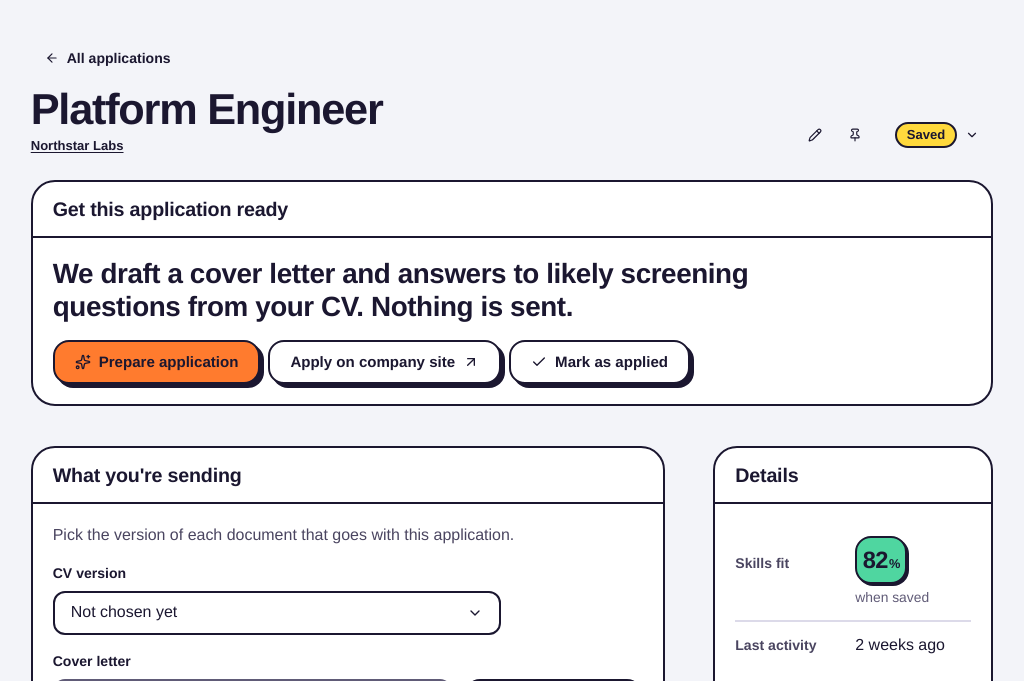
Scenario: ApplicationPage › keeps the name field open and says so when the rename fails
Click the button named "Rename application": (815, 135) [797, 117, 833, 153]
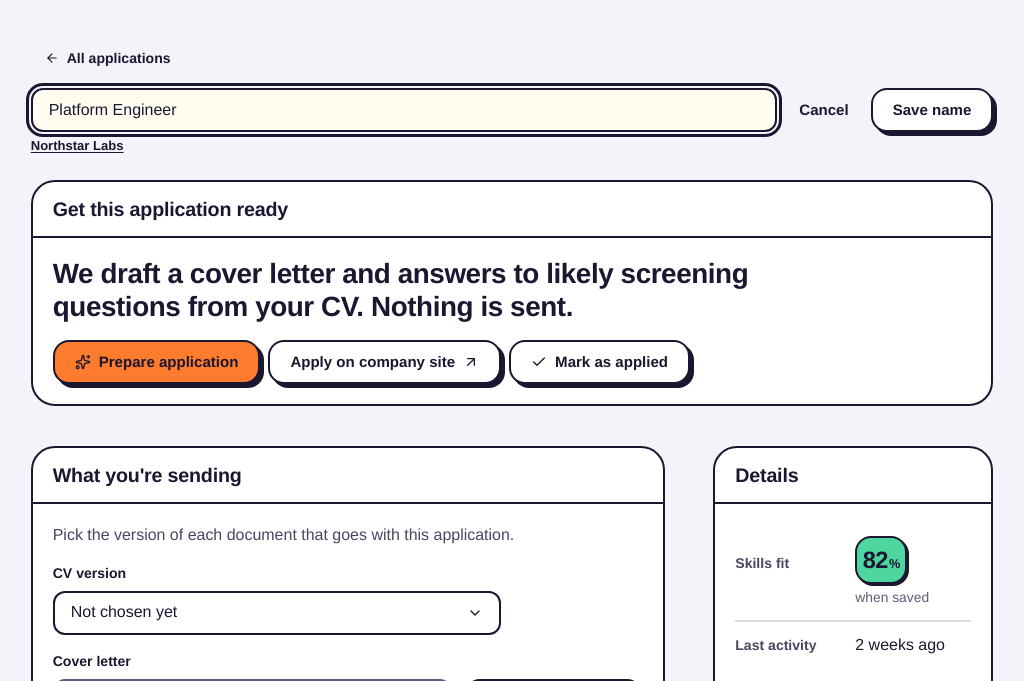
expect the element named "Application name" is shown: met, box [31, 88, 993, 132]
Replace the text in the field named "Application name" with "Dream job": (404, 110) [49, 90, 759, 130]
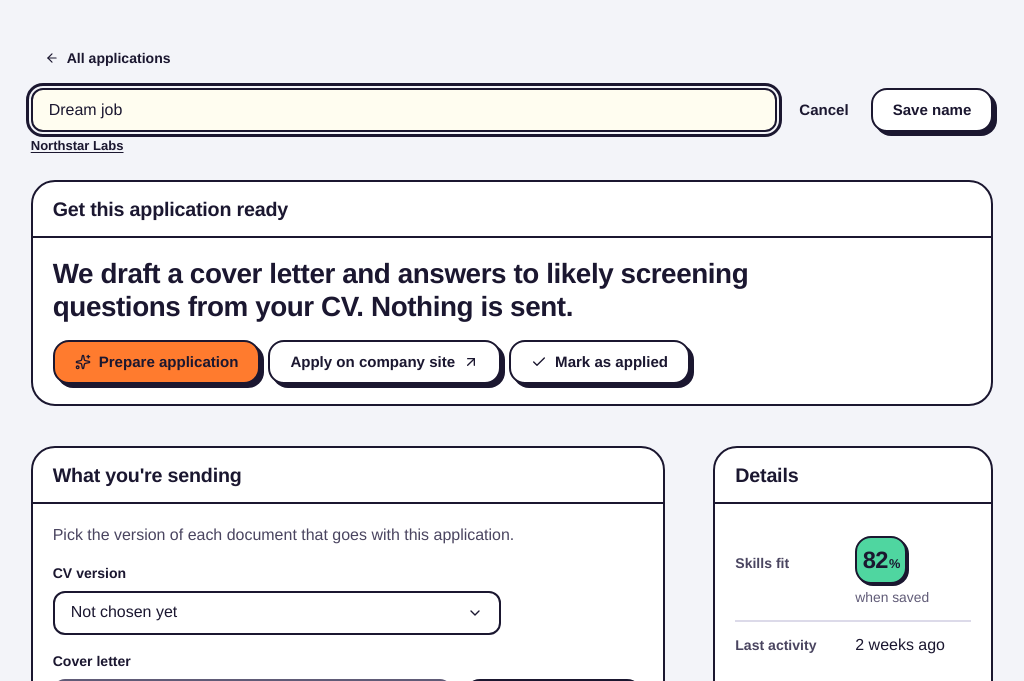
Click the button "Save name": (932, 110) [871, 88, 993, 132]
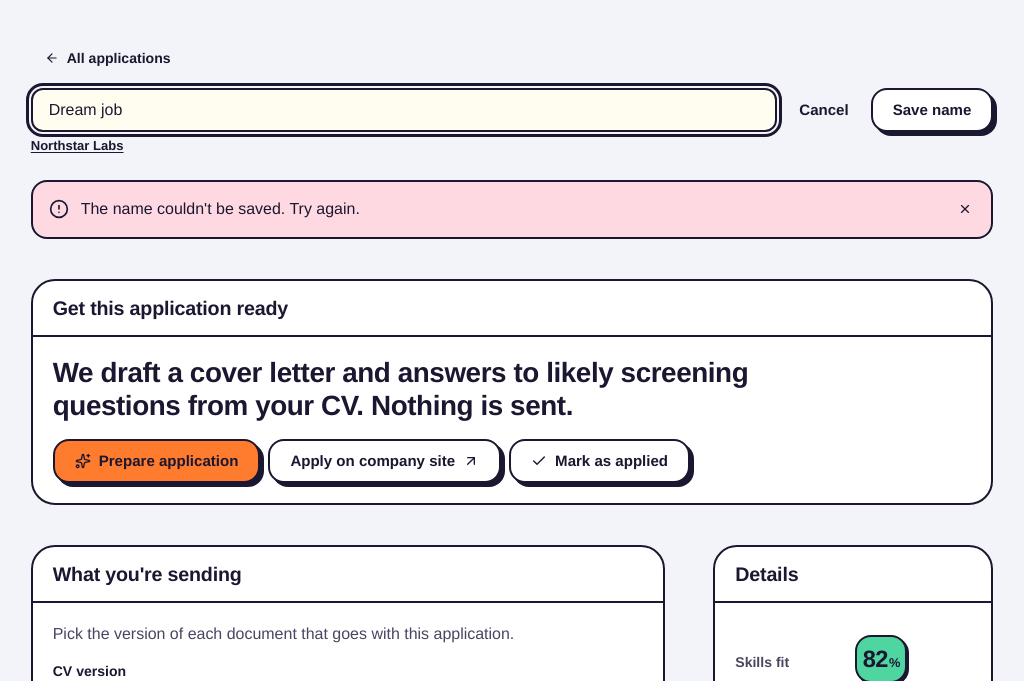
expect the text "The name couldn't be saved. Try again." is shown: met, box [81, 199, 360, 219]
